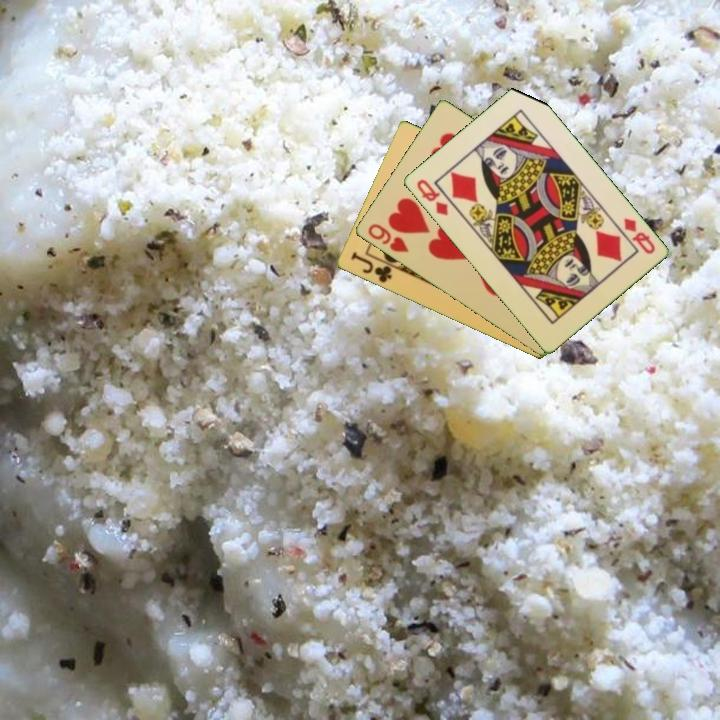9h: (364, 220, 411, 256)
Jc: (347, 248, 400, 286)
Qd: (619, 214, 658, 257), (413, 175, 451, 219)
